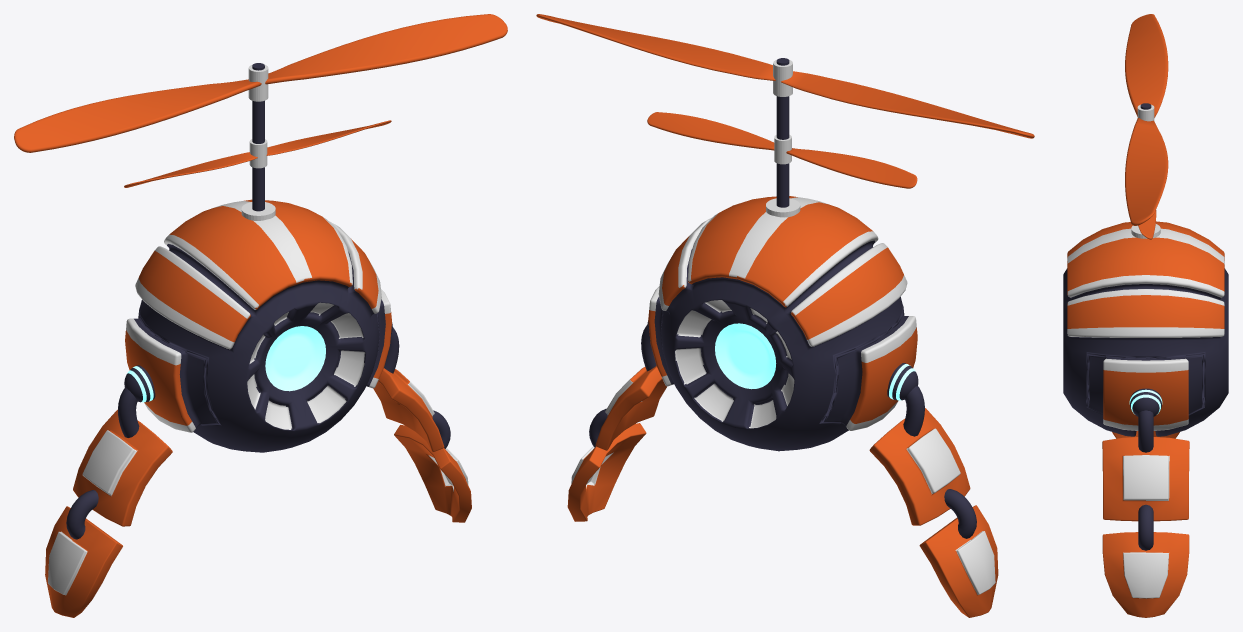
The model's file is ScanBot.glb.
3 renders of one model, left to right at view 1: azimuth 30°, elevation 25°; view 2: azimuth 150°, elevation 25°; view 3: azimuth 270°, elevation 25°, orthographic. The views are drawn at different scales.
Parts seen in each view (by area): view 1: Sphere, LargeProps, Sphere.002, Sphere.001, SmallProps, BézierCurve.001, BézierCurve, Cylinder.001, Sphere.003; view 2: Sphere, Sphere.002, Sphere.001, LargeProps, SmallProps, BézierCurve.001, Cylinder.001, BézierCurve, Sphere.003; view 3: Sphere, LargeProps, Sphere.002, Sphere.001, Sphere.003, BézierCurve.001, BézierCurve, SmallProps.
Part boxes in pixels (<box>): Sphere: <box>125,199,391,452</box>; LargeProps: <box>14,14,507,152</box>; Sphere.002: <box>73,368,444,526</box>; Sphere.001: <box>45,425,471,617</box>; SmallProps: <box>124,120,391,187</box>; BézierCurve.001: <box>66,410,450,539</box>; BézierCurve: <box>118,327,399,437</box>; Cylinder.001: <box>252,63,264,211</box>; Sphere.003: <box>124,322,392,402</box>; Sphere: <box>648,196,917,451</box>; Sphere.002: <box>595,366,970,525</box>; Sphere.001: <box>567,423,998,617</box>; LargeProps: <box>536,14,1034,138</box>; SmallProps: <box>647,112,917,188</box>; BézierCurve.001: <box>589,408,976,538</box>; Cylinder.001: <box>776,58,789,207</box>; BézierCurve: <box>641,324,924,436</box>; Sphere.003: <box>647,320,918,400</box>; Sphere: <box>1063,221,1228,436</box>; LargeProps: <box>1125,14,1168,225</box>; Sphere.002: <box>1102,437,1189,521</box>; Sphere.001: <box>1102,431,1189,617</box>; Sphere.003: <box>1129,388,1162,416</box>; BézierCurve.001: <box>1138,504,1153,550</box>; BézierCurve: <box>1138,410,1153,452</box>; SmallProps: <box>1138,210,1156,239</box>.
Size of the model in its own units: 4.66 by 4.52 by 1.59.
